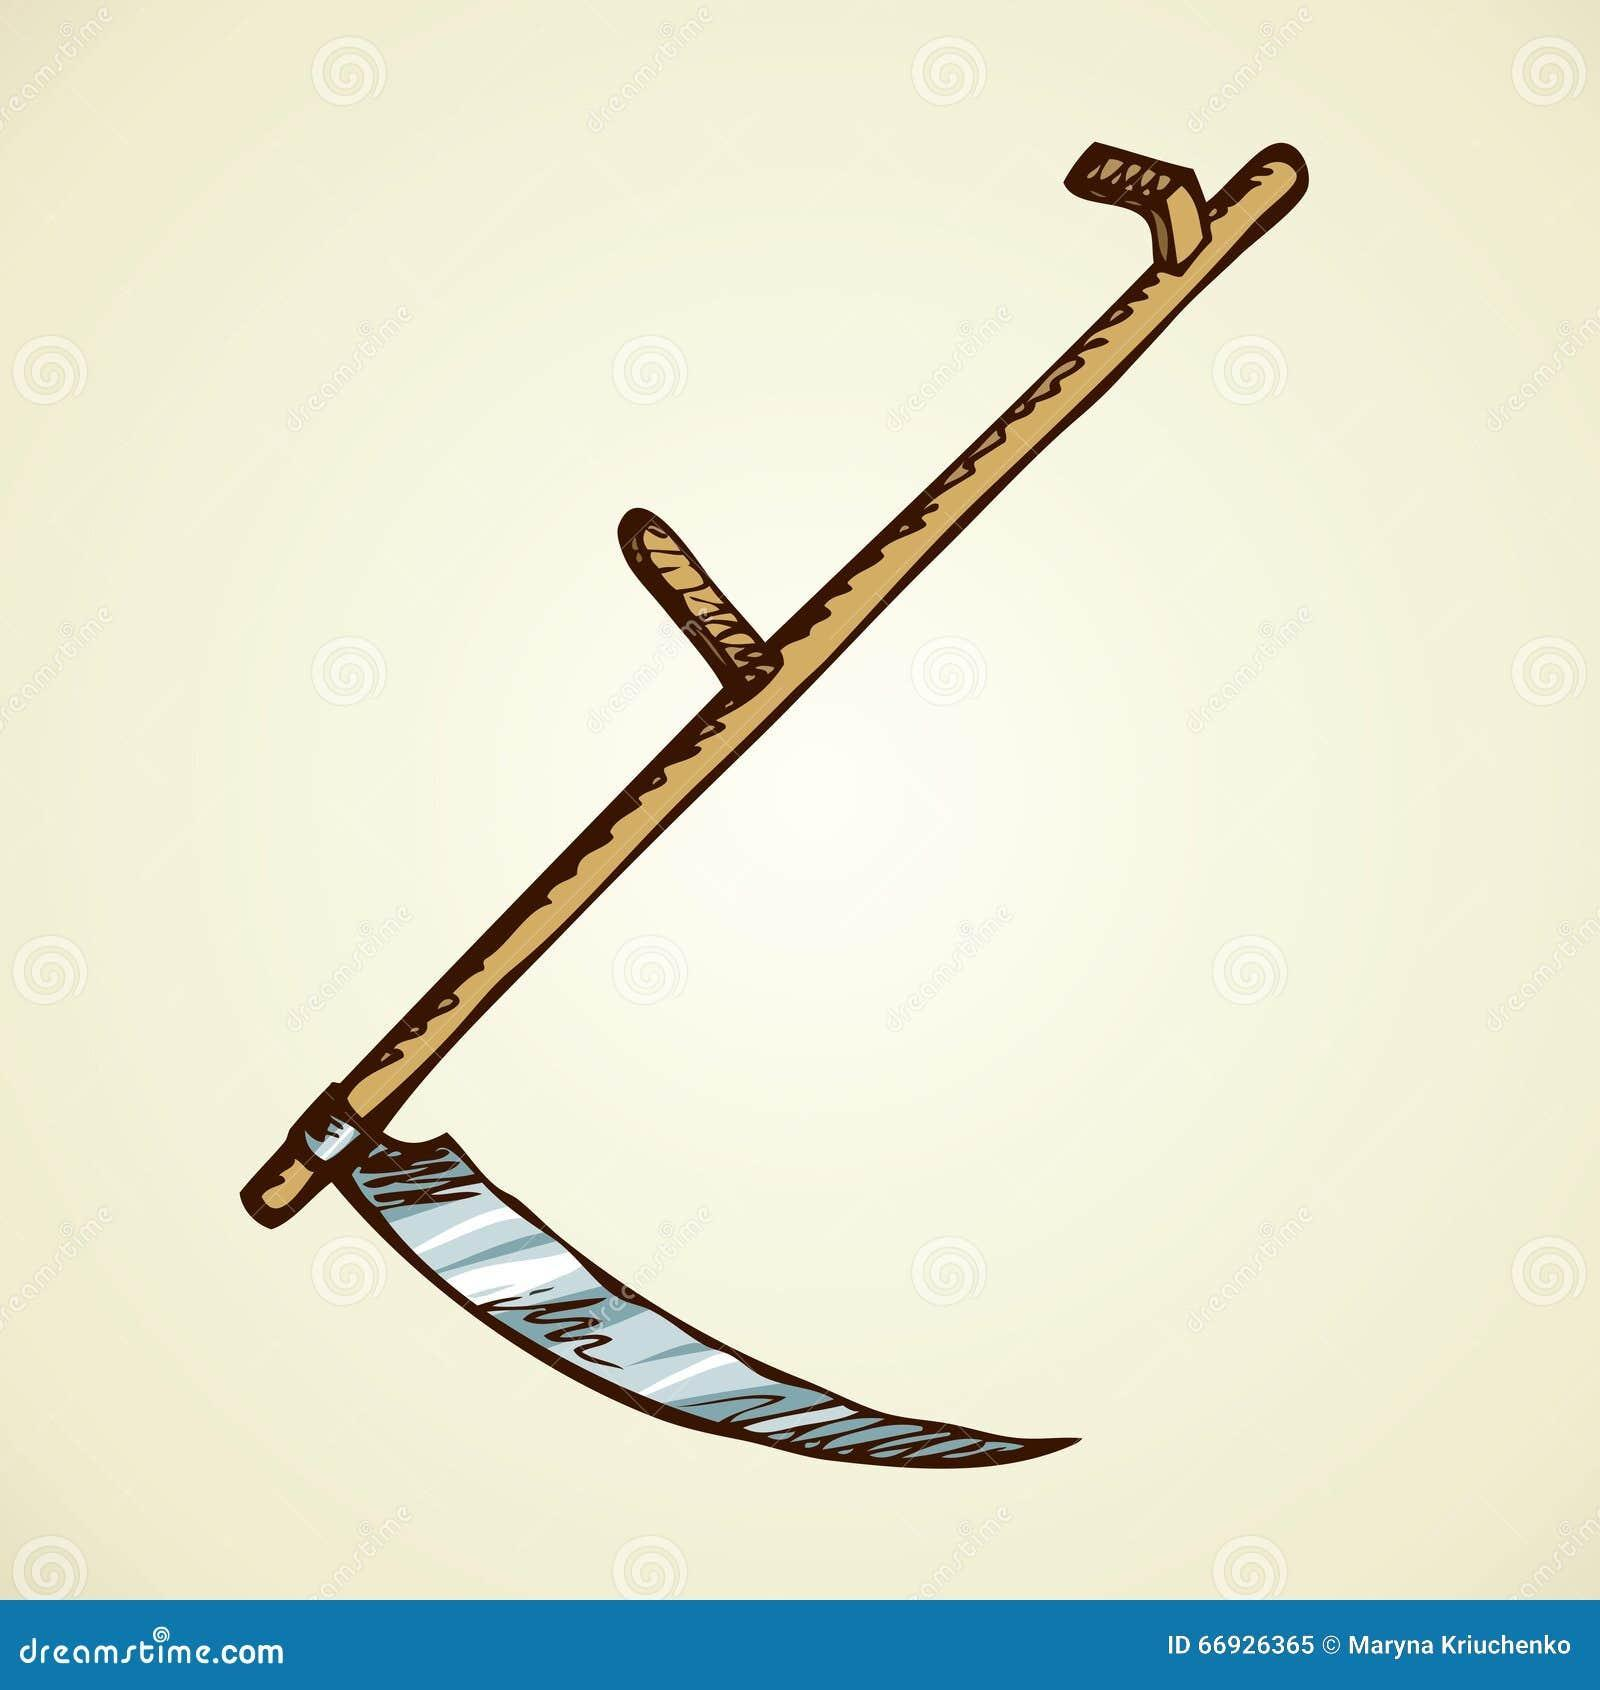foice: (241, 562, 1108, 1513)
